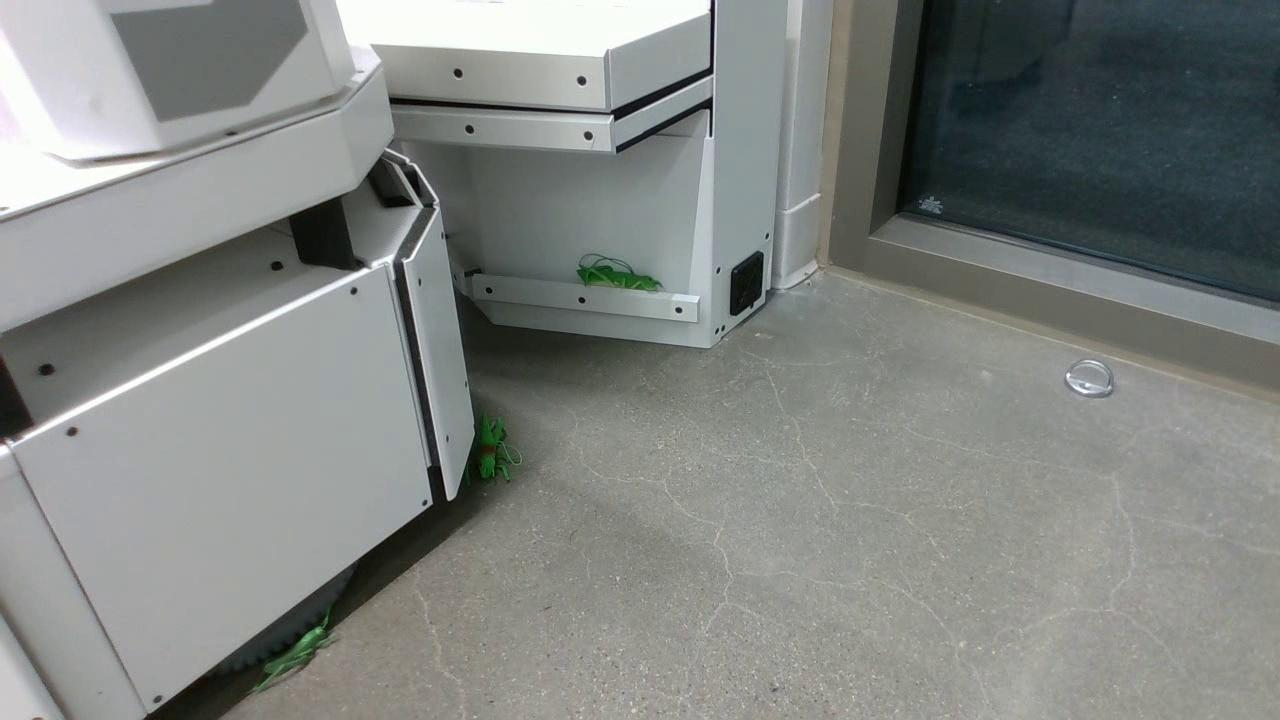grasshopper: (468, 413, 515, 482), (579, 266, 664, 293)
